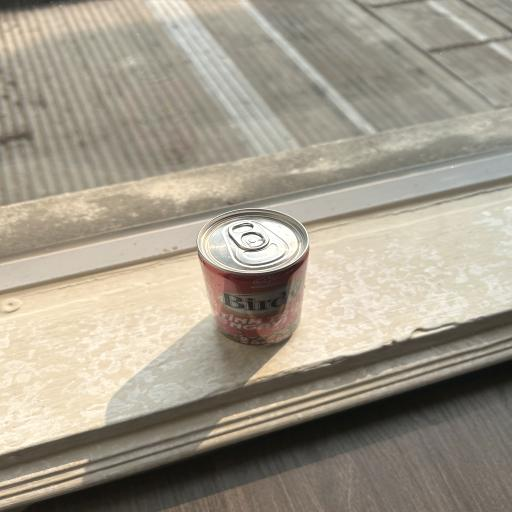birdy: (198, 205, 312, 347)
